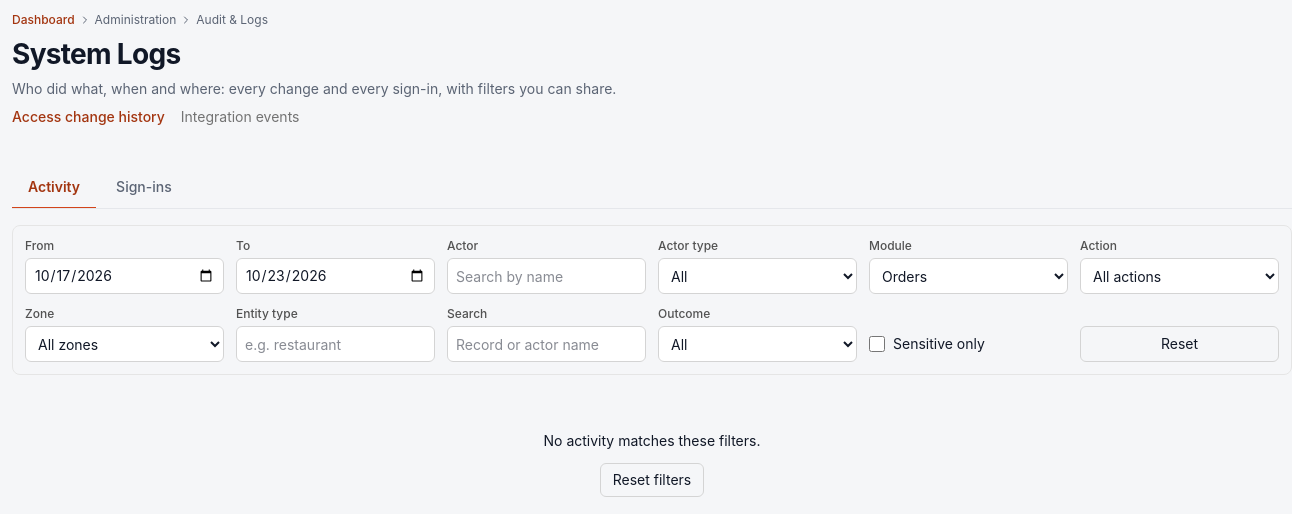
table behaviour › empty: "No activity matches these filters" with Reset when filters narrow it; plain text otherwise
Check: the text "No activity matches these filters." is shown, box [544,431,760,451]
What coordinates should you click on to do the following:
click the button "Reset filters"
I would click on:
 (652, 480)
Its box is [600,463,704,497].
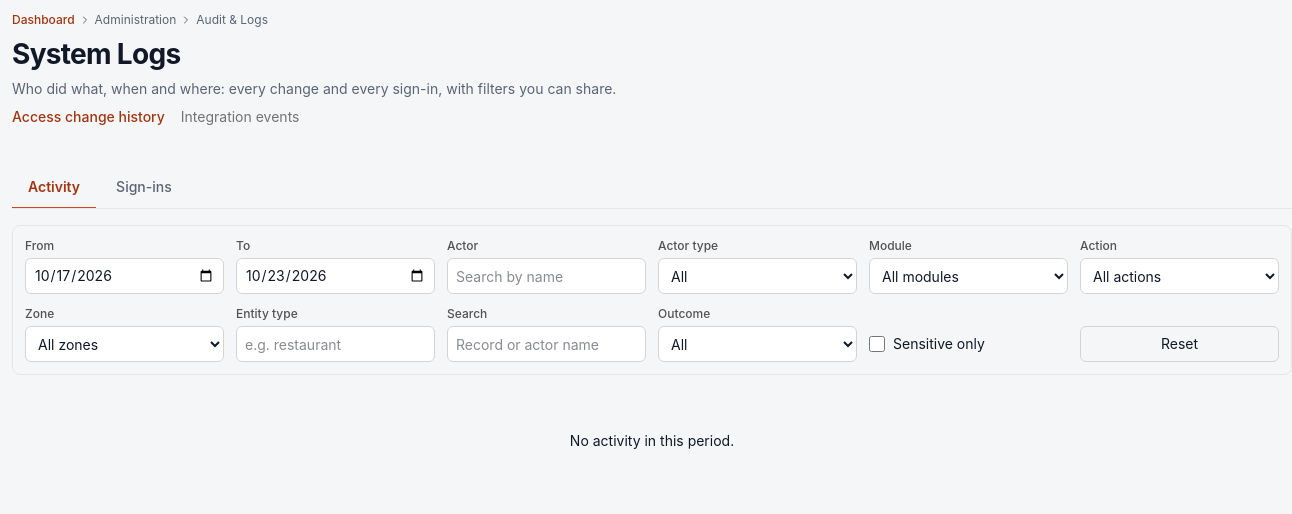
Check: the text "No activity in this period." is shown, box [570,431,734,451]
Check: the button "Reset filters" is gone
